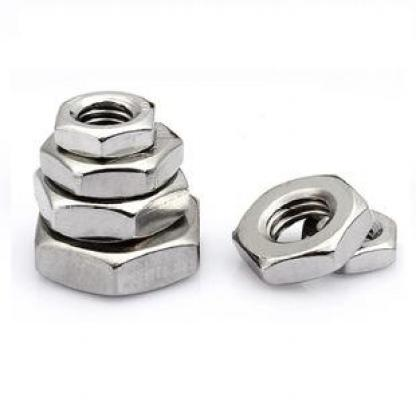FOD: (34, 193, 208, 297), (229, 171, 371, 285), (28, 163, 205, 237), (32, 118, 189, 199), (52, 84, 158, 158), (302, 202, 403, 277)
